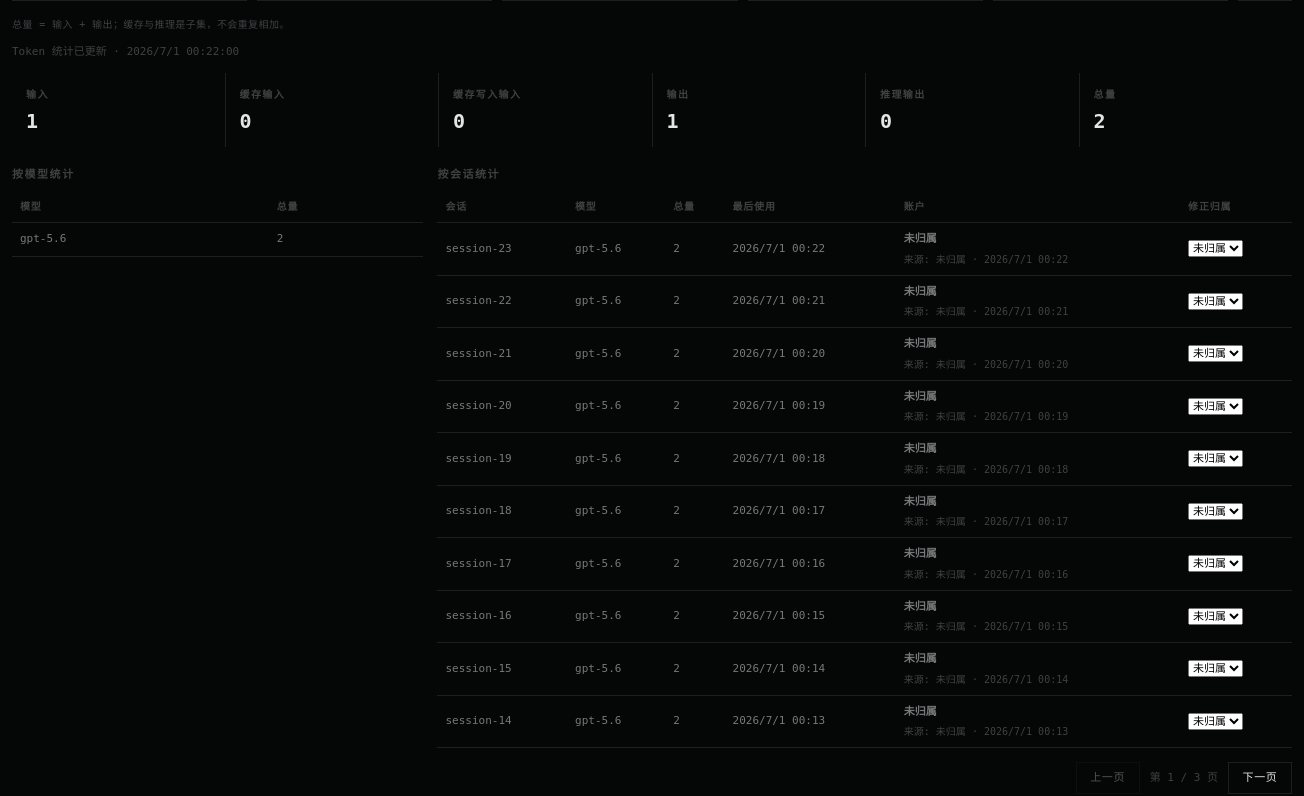
Test: sorts sessions newest first and paginates ten rows by default
(page scrolled)
expect the row that starts with "session-23" is shown: met, box [445, 242, 512, 254]
expect the row that starts with "session-14" is shown: met, box [445, 714, 512, 727]
Click the button "下一页". click: (1260, 778)
box: [1228, 762, 1292, 794]
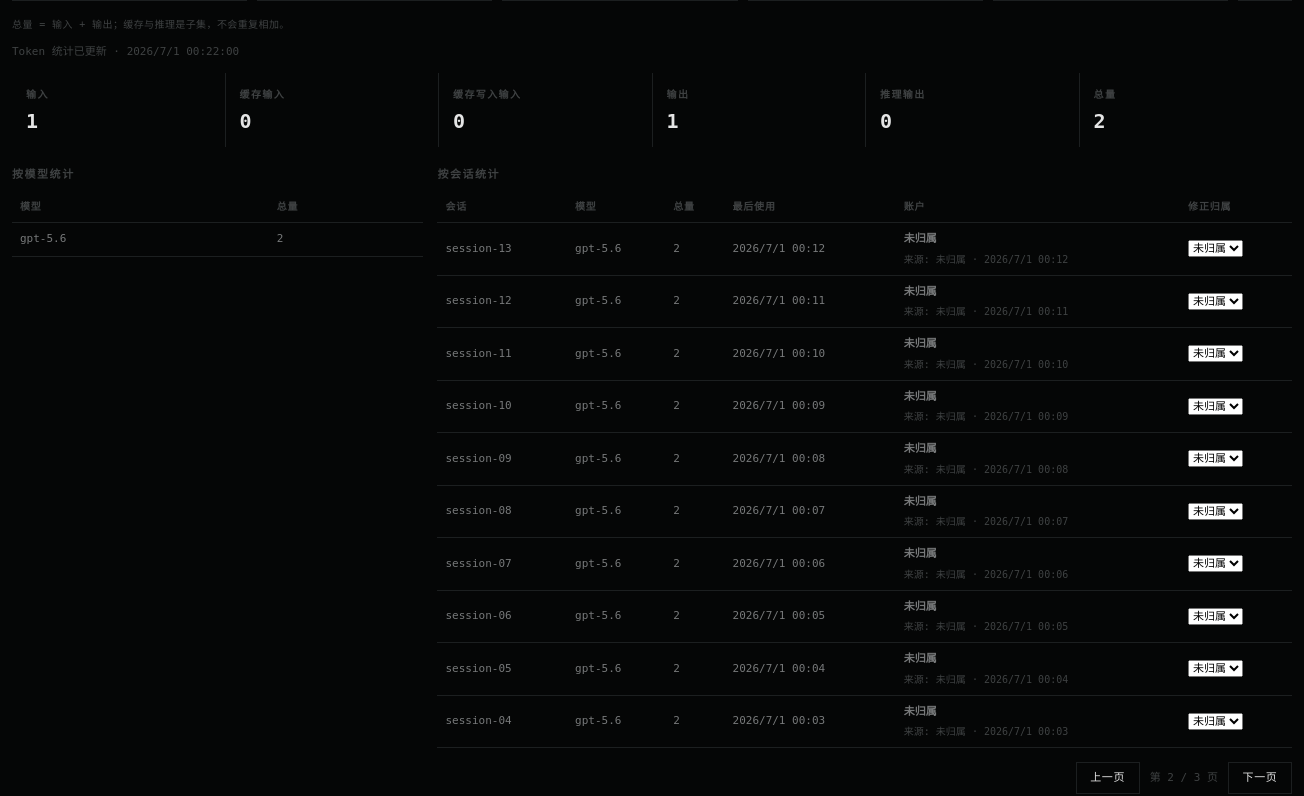
expect the text "第 2 / 3 页" is shown: met, box [1150, 770, 1218, 786]
expect the row that starts with "session-13" is shown: met, box [445, 242, 512, 254]
